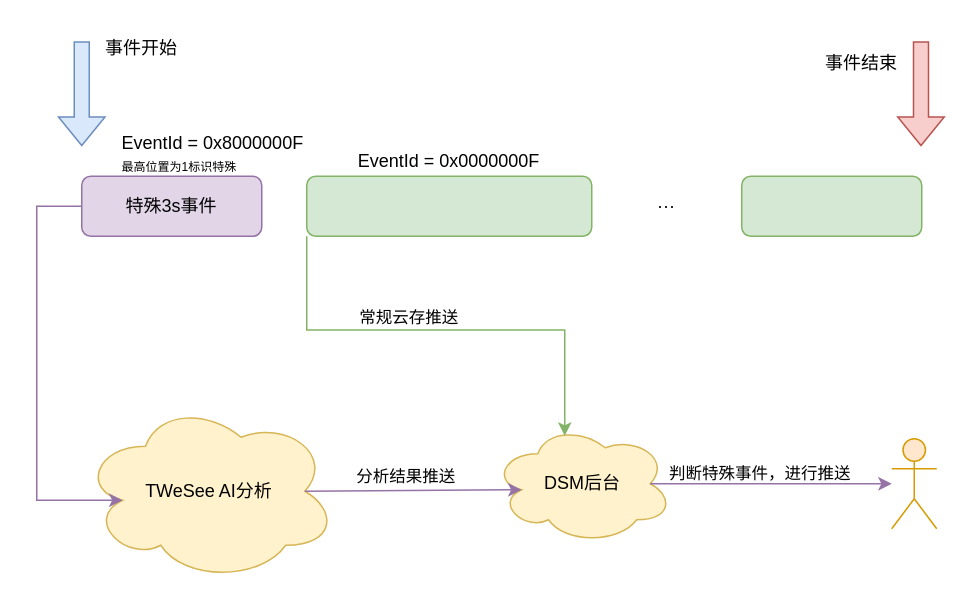
This 971x608 diagram has some shape labels left out. Here are the shapes that lost their labels. From the top down, the centre of each, then its label:
At pixel 448 205: "常规告警事件".
At pixel 913 483: "Actor".
